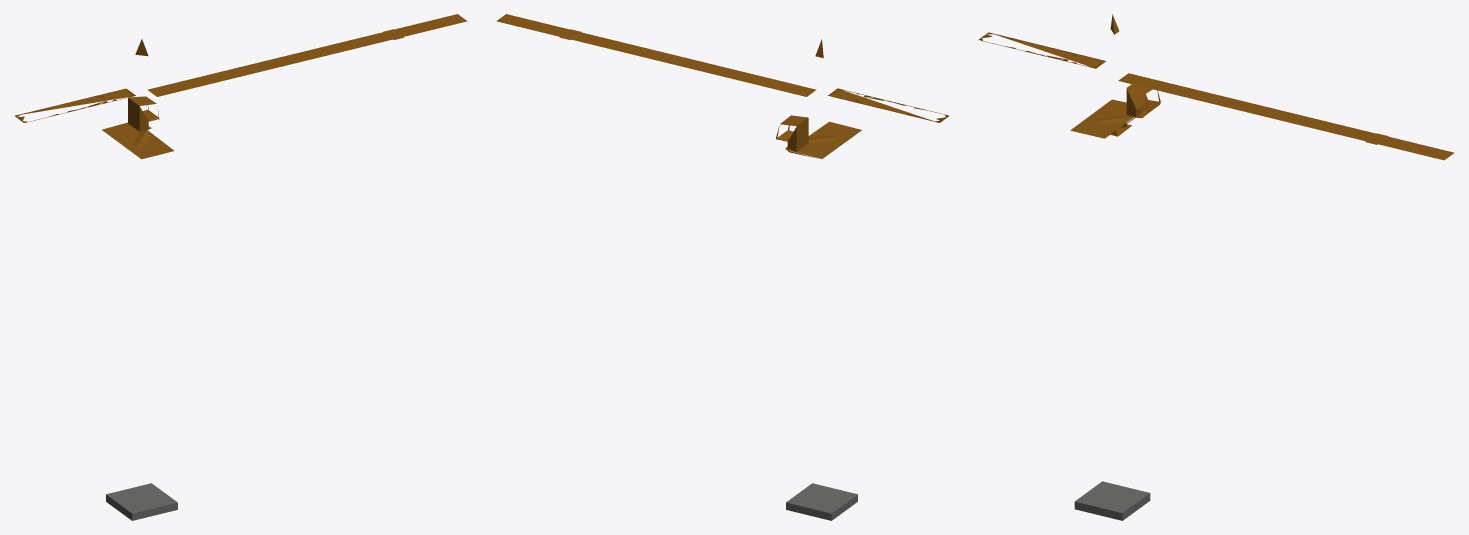
File: tower-crane.lod2.glb
3 views of the same model, side by side, from view 1: azimuth 30°, elevation 25°; view 2: azimuth 150°, elevation 25°; view 3: azimuth 330°, elevation 25° (orthographic). The views are drawn at different scales.
Parts seen in each view (by area): view 1: Cube.052_UV_0; view 2: Cube.052_UV_0; view 3: Cube.052_UV_0.
Part boxes in pixels (x1,y1,x2,y2): Cube.052_UV_0: (15,14,467,520); Cube.052_UV_0: (496,14,948,520); Cube.052_UV_0: (978,14,1454,520).
Size of the model in its own units: 47.68 by 48 by 7.62.
